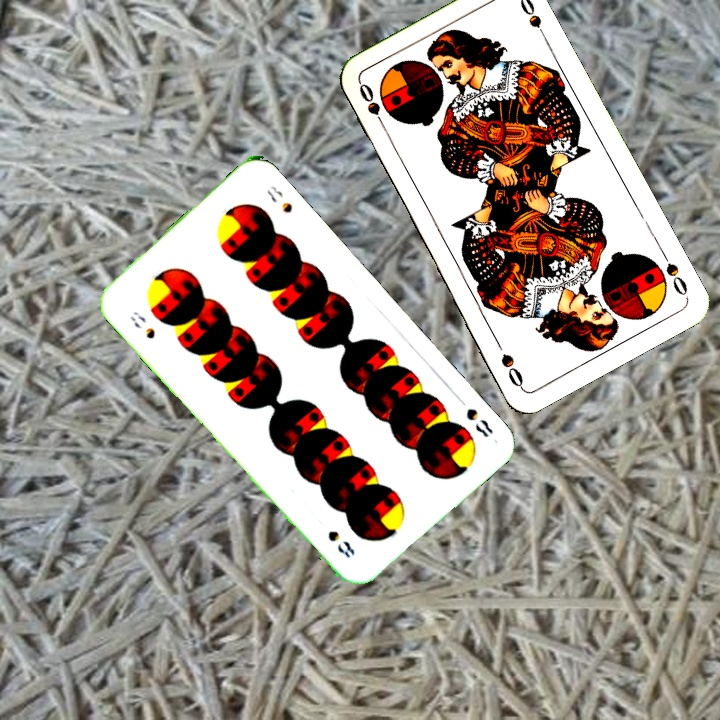S8: (452, 392, 496, 440), (125, 307, 158, 342)
SO: (354, 79, 390, 134), (656, 245, 691, 300)
